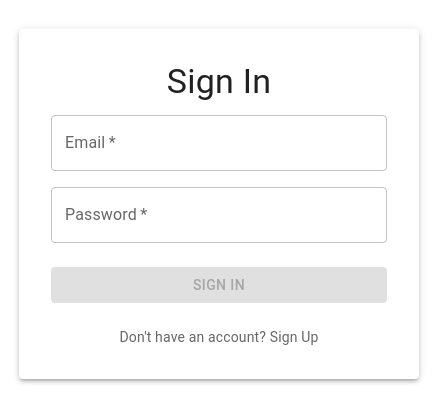
LoginForm › should show email error when email is empty after blur
Step 1. Click the field labelled "Email *" → (219, 143), box x1=51 y1=115 x2=387 y2=171
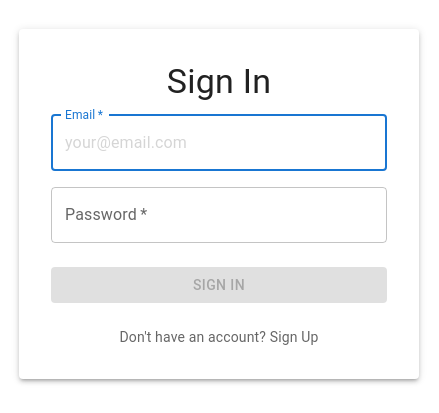
Step 2. Press Tab
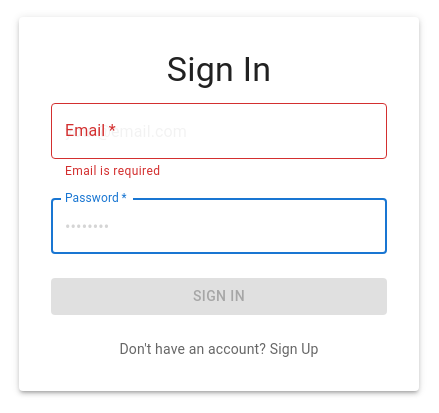
Check: the text "Email is required" is shown, box x1=65 y1=164 x2=160 y2=178
